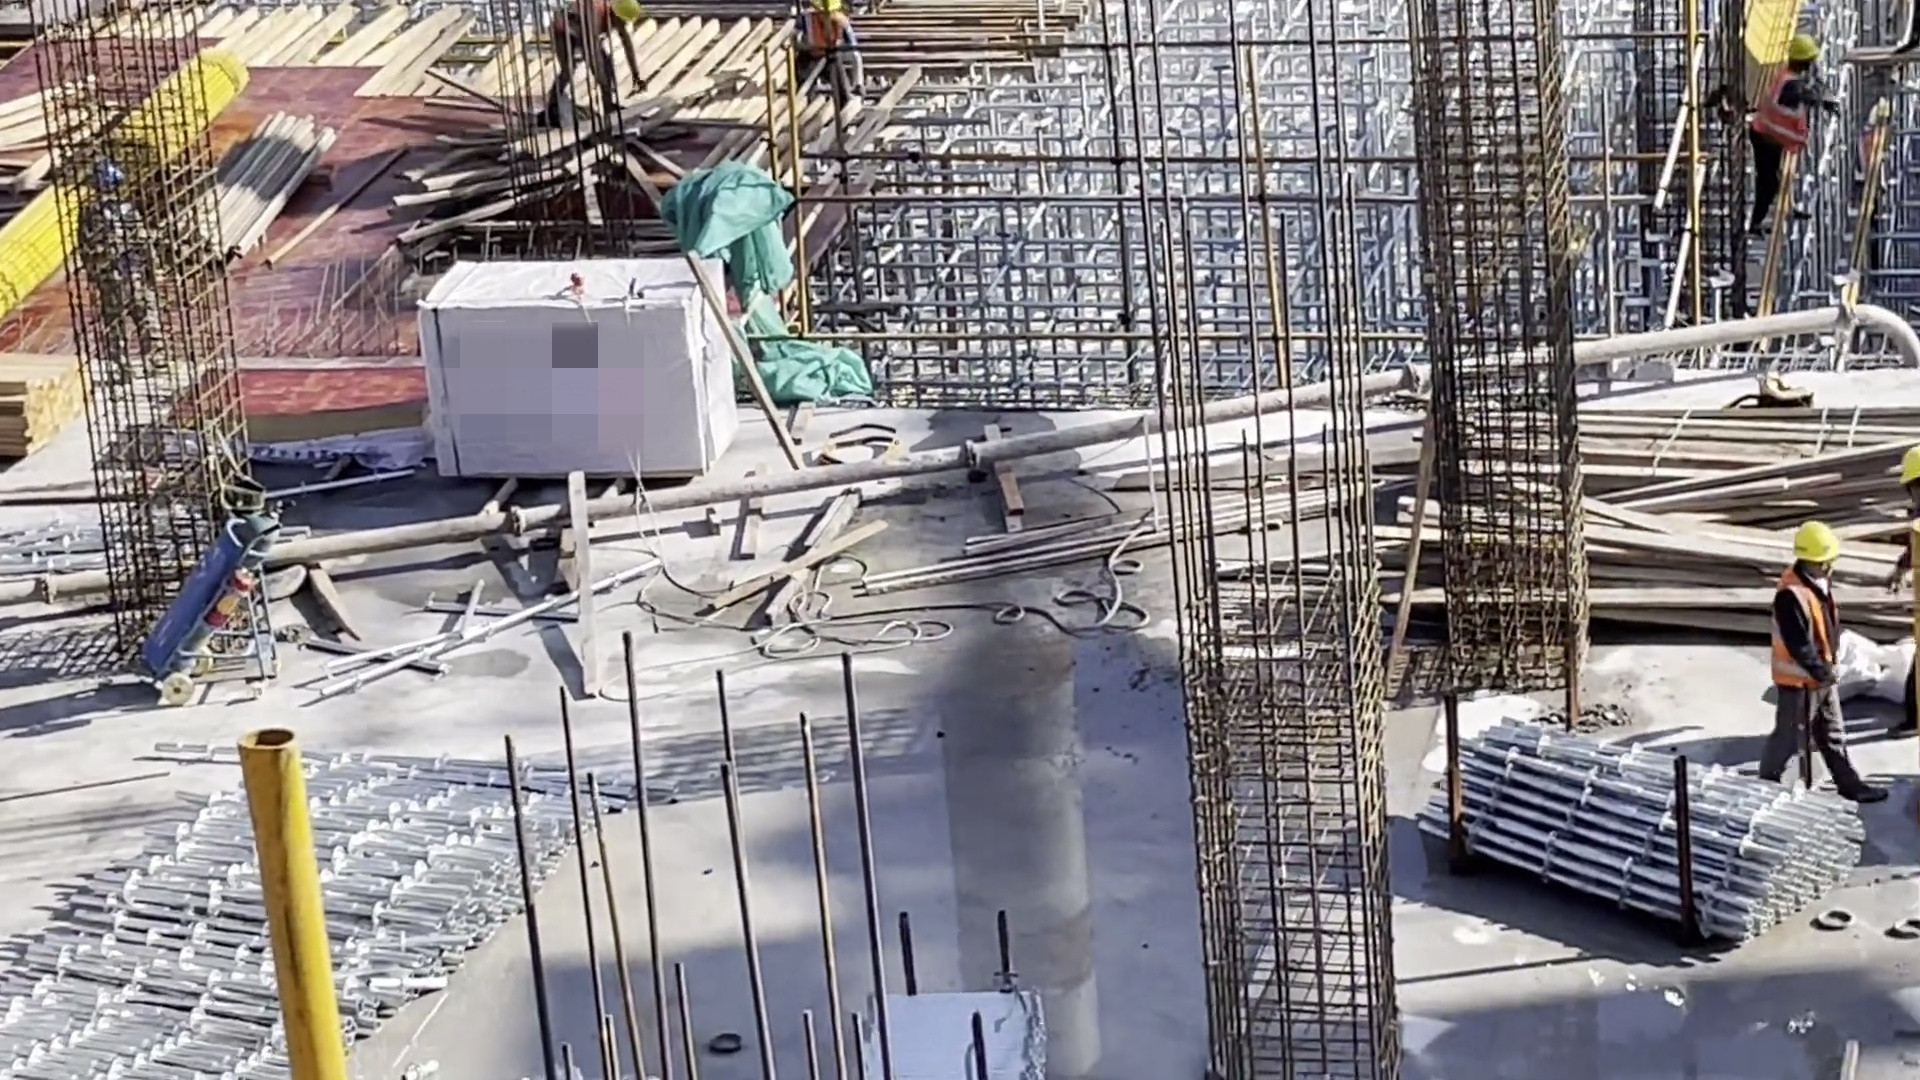helmet: (1787, 511, 1845, 558), (1783, 27, 1822, 64), (612, 1, 645, 32)
person: (1751, 510, 1867, 788), (79, 168, 174, 389), (1744, 27, 1825, 248), (536, 1, 658, 106), (783, 1, 865, 114), (1890, 439, 1920, 732)
scaffold: (1, 739, 608, 1080), (1427, 714, 1827, 972)
vest: (1765, 578, 1843, 714), (1749, 69, 1812, 155)
wood: (1578, 396, 1919, 661), (1, 354, 85, 471)
